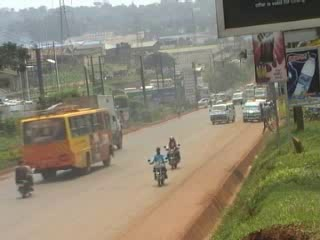Motorcycle: (146, 145, 171, 187), (13, 157, 36, 199), (162, 135, 182, 171)
